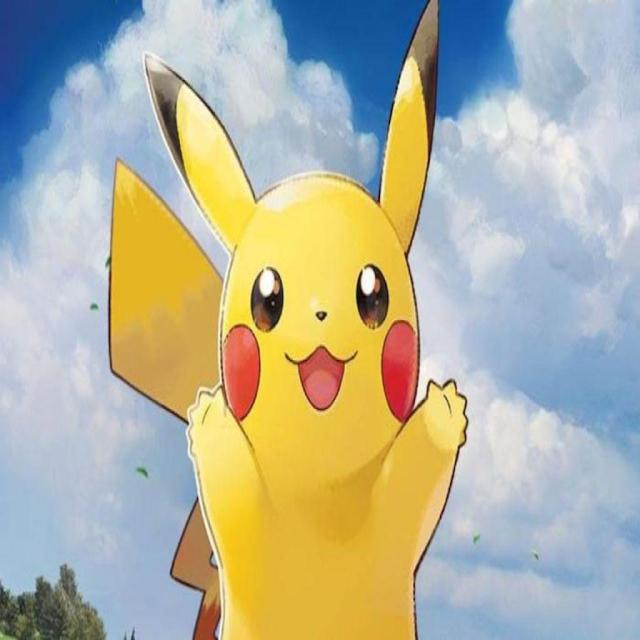pikachu: (110, 0, 470, 640)
